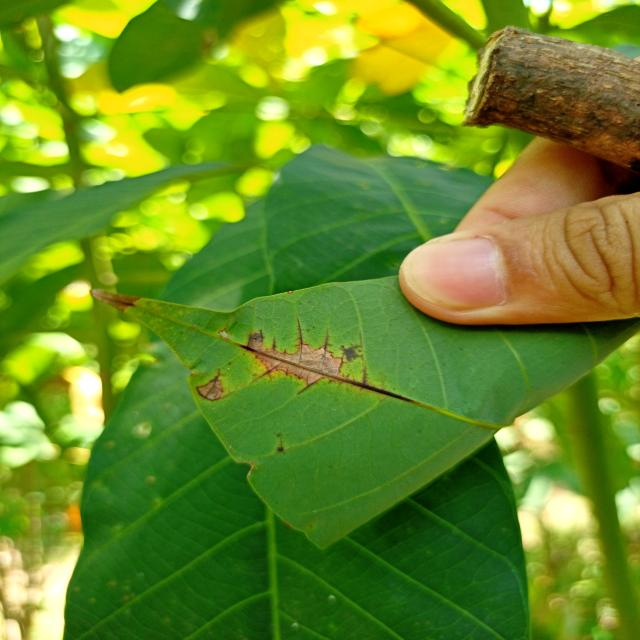Corynespora: (235, 317, 412, 402), (195, 369, 235, 402), (339, 344, 364, 364)
